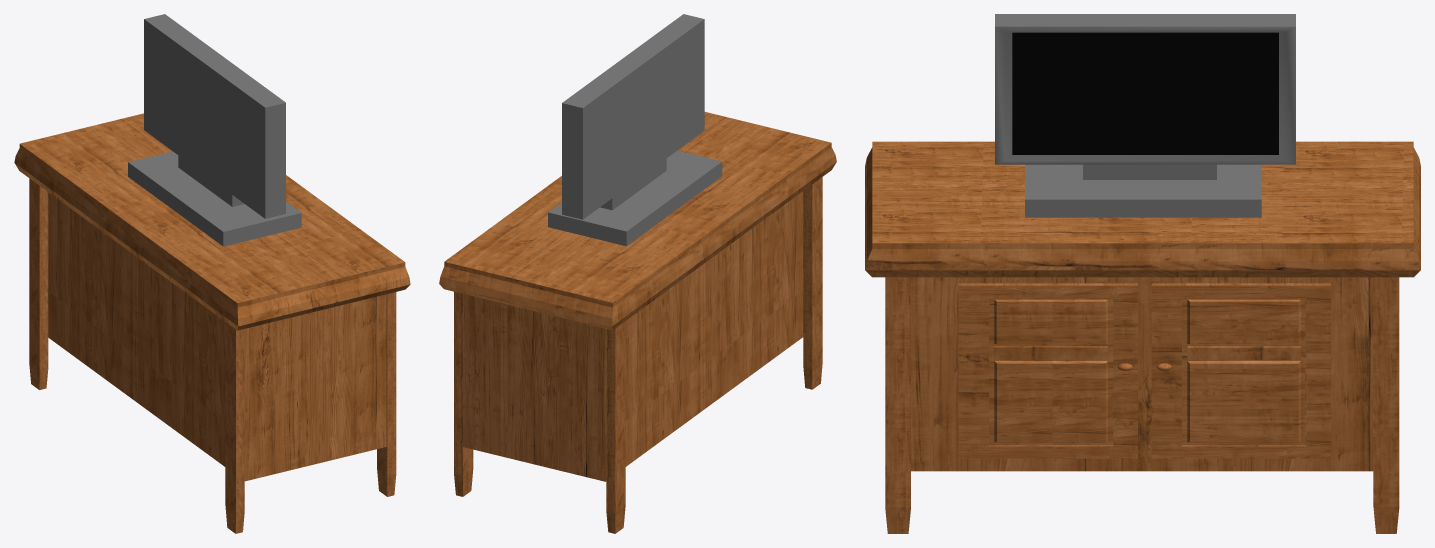
3 views of the same model, side by side, from view 1: azimuth 30°, elevation 25°; view 2: azimuth 150°, elevation 25°; view 3: azimuth 270°, elevation 25° (orthographic). The views are drawn at different scales.
Parts seen in each view (by area): view 1: polySurface36; view 2: polySurface36; view 3: polySurface36.
Part boxes in pixels (x1,y1,x2,y2): polySurface36: [14, 14, 410, 533]; polySurface36: [439, 14, 836, 533]; polySurface36: [865, 14, 1420, 533].
Size of the model in its own units: 15.08 by 30.65 by 32.99.
3 materials, 1 textured.
